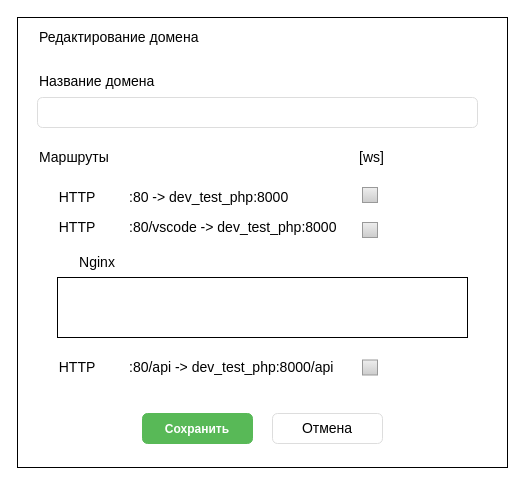
The diagram is 525 pixels wide and 485 high, and some of its shapes have lost their labels. The centre of each missing label's shape, as x and y in pixels:
rewrite /vscode/(.*) /$1 break; proxy_pass %ROUTE%; include proxy_params;: the point at 262,307
test.local: the point at 257,112
